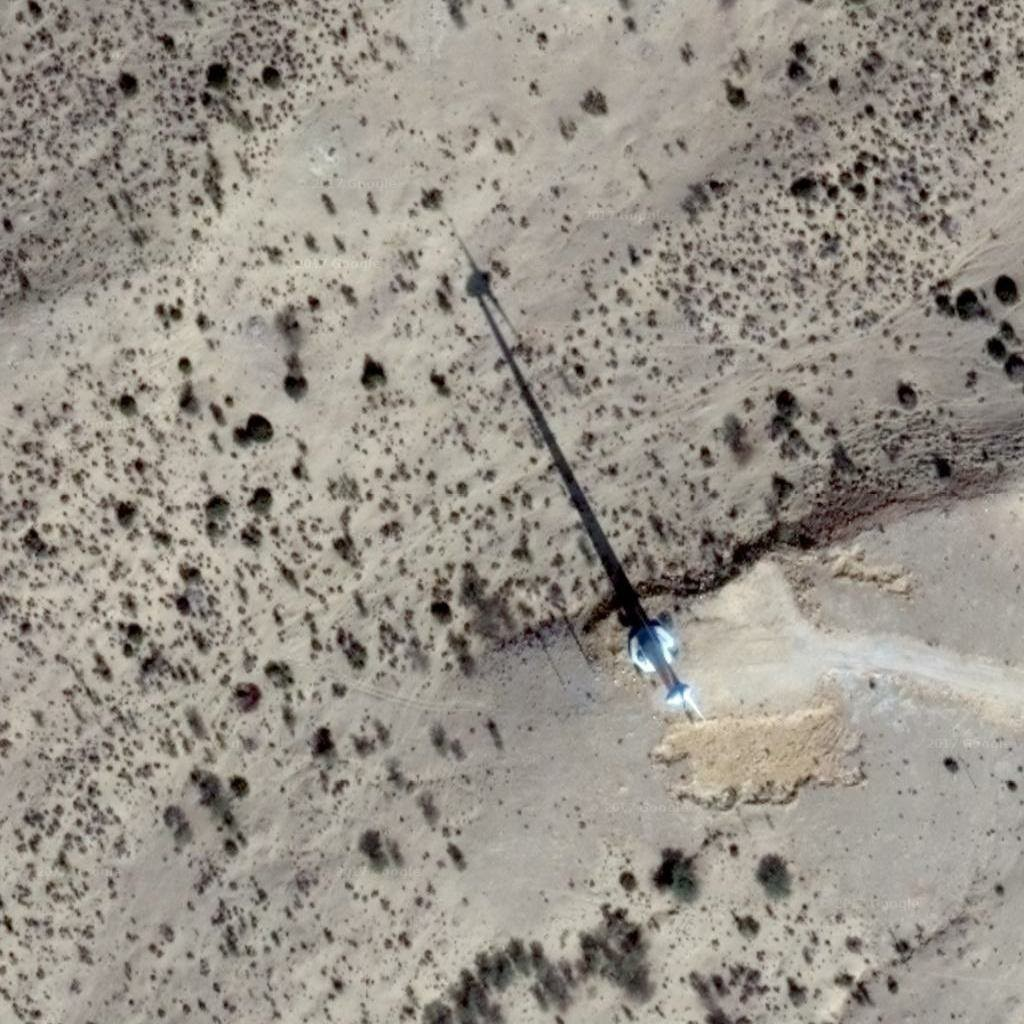Windmill: (426, 242, 654, 598)
